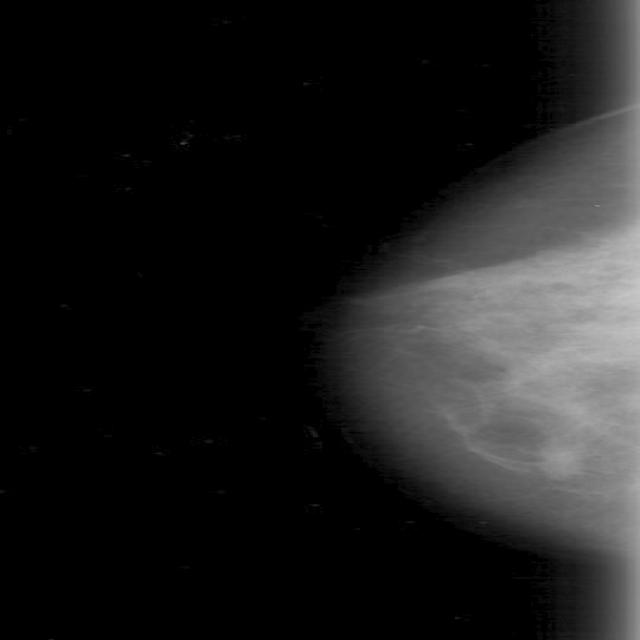tumour: (536, 442, 580, 481)
